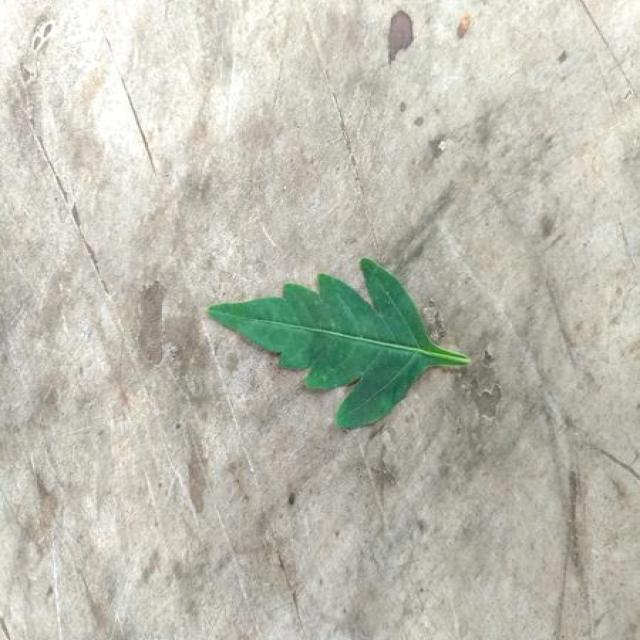balloon_Vine: (208, 259, 470, 428)
